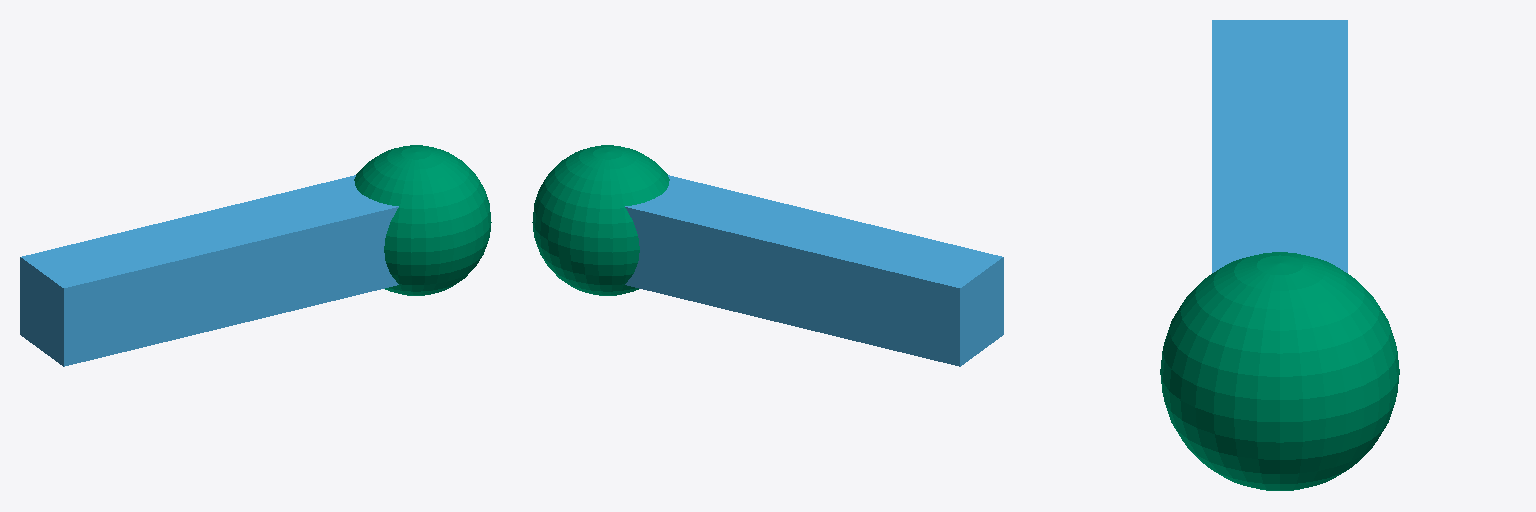
The robot description file, URDF, robot "two_link":
<?xml version="1.0"?>
<robot name="two_link">
  <link name="base_link"/>
  <link name="link1">
    <visual>
      <origin xyz="0.1 0 0" rpy="0 0 0"/>
      <geometry><box size="0.2 0.04 0.04"/></geometry>
    </visual>
  </link>
  <link name="tip_link">
    <visual>
      <geometry><sphere radius="0.035"/></geometry>
    </visual>
  </link>
  <joint name="joint1" type="revolute">
    <parent link="base_link"/>
    <child link="link1"/>
    <origin xyz="0 0 0.1" rpy="0 0 0"/>
    <axis xyz="0 0 1"/>
    <limit lower="-3.14159" upper="3.14159" velocity="1"/>
  </joint>
  <joint name="joint2" type="revolute">
    <parent link="link1"/>
    <child link="tip_link"/>
    <origin xyz="0.2 0 0" rpy="0 0 0"/>
    <axis xyz="0 0 1"/>
    <limit lower="-3.14159" upper="3.14159" velocity="1"/>
  </joint>
</robot>

--- Render facts (derived) ---
3 views of the same robot in one strip: view 1: azimuth 30°, elevation 25°; view 2: azimuth 150°, elevation 25°; view 3: azimuth 270°, elevation 25° (orthographic).
Robot: two_link — 3 links, 2 joints (2 revolute); root link base_link; default pose: every joint at zero.
Visible links, largest first — view 1: link1, tip_link; view 2: link1, tip_link; view 3: tip_link, link1.
Boxes of the visible links, x1,y1,x2,y2 form: link1: (20, 175, 398, 366); tip_link: (354, 145, 491, 295); link1: (625, 175, 1003, 366); tip_link: (532, 145, 669, 295); tip_link: (1160, 252, 1399, 490); link1: (1212, 20, 1347, 272).
Size in the robot's own frame: 0.235 by 0.07 by 0.07 metres.
Geometry: primitives only (box / cylinder / sphere), no mesh files.
